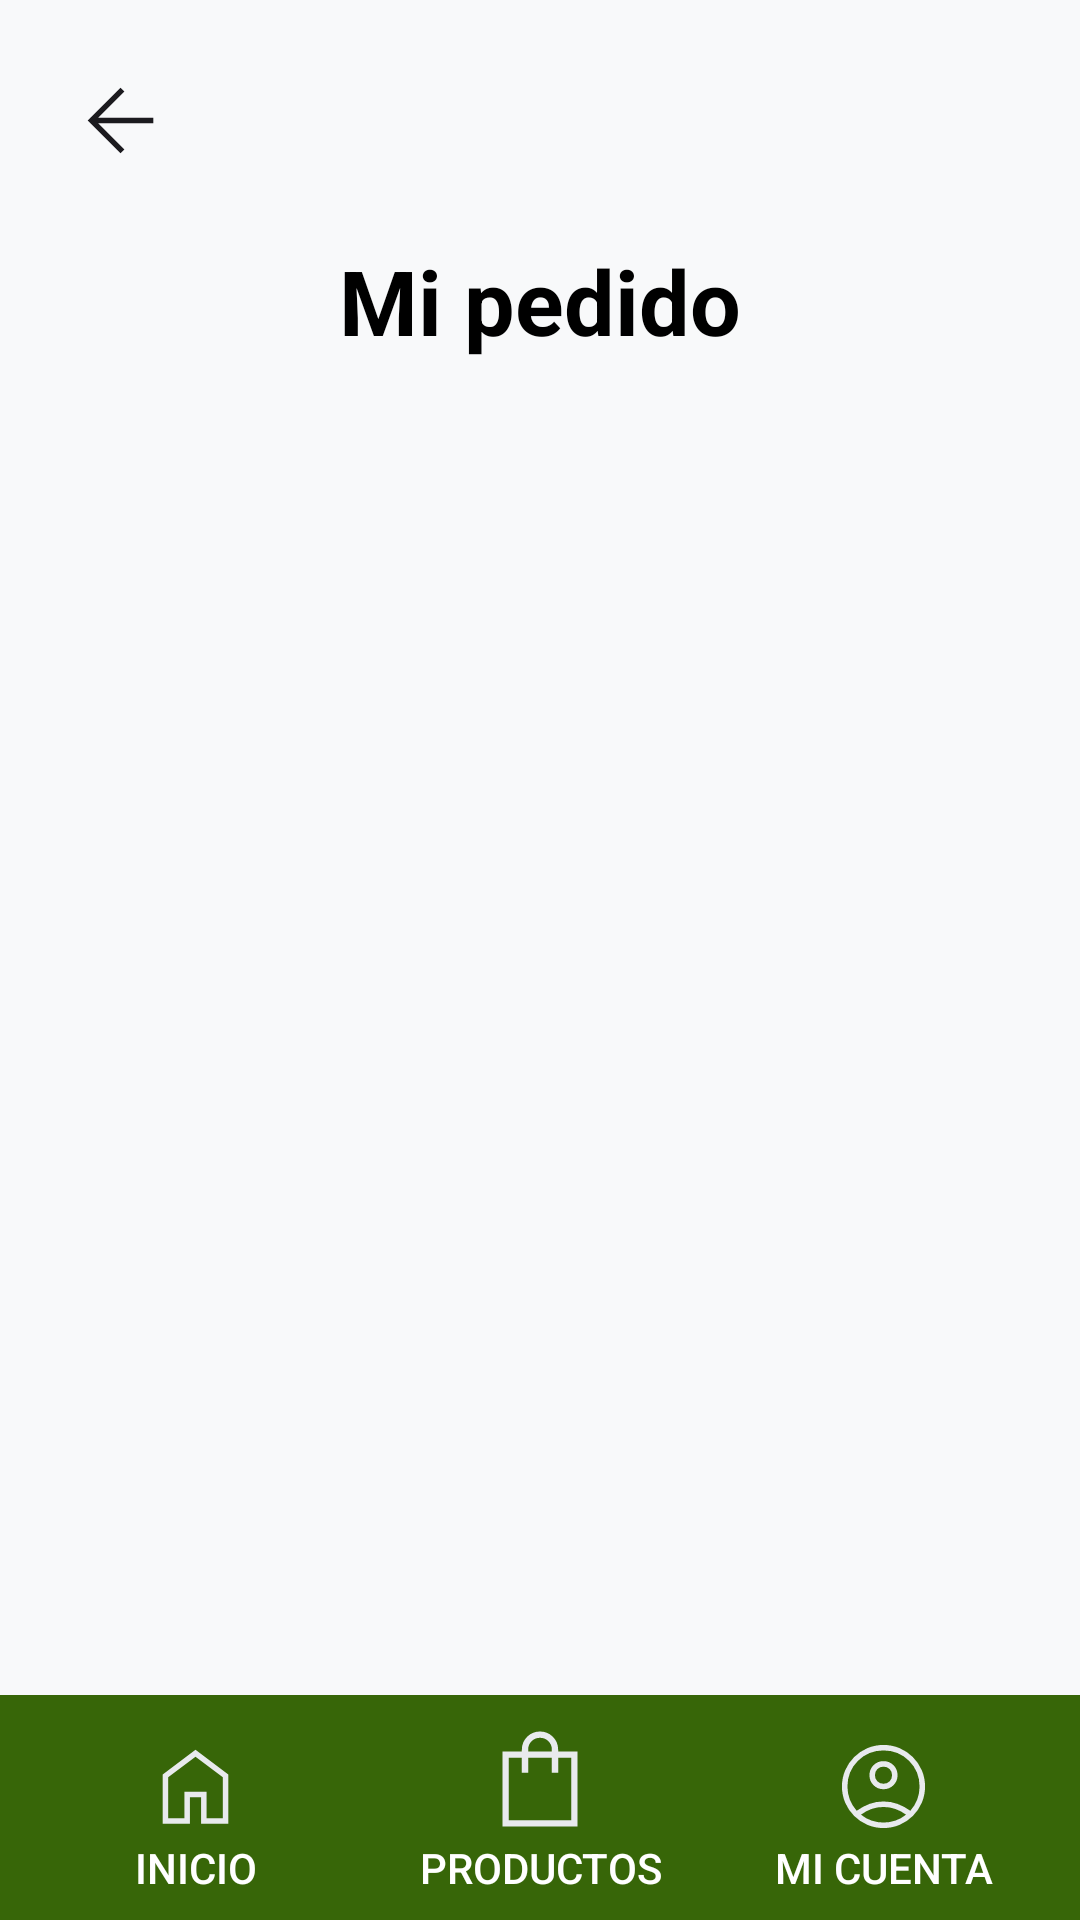

Named icons in this screenshot (1080px x 1920px) and their bounding boxes, (x1, y1, x2, y2):
Volver: (88, 88, 154, 153)
